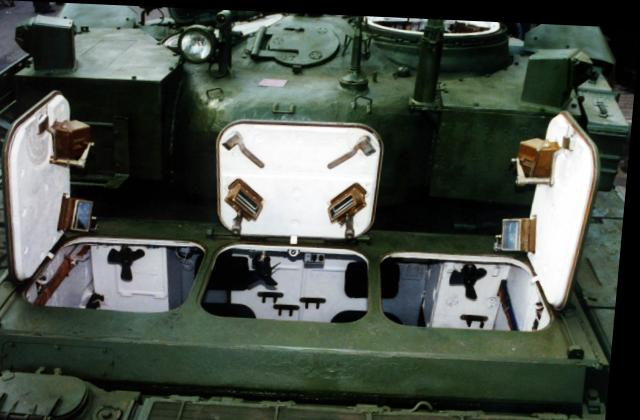tank: (0, 1, 639, 393)
